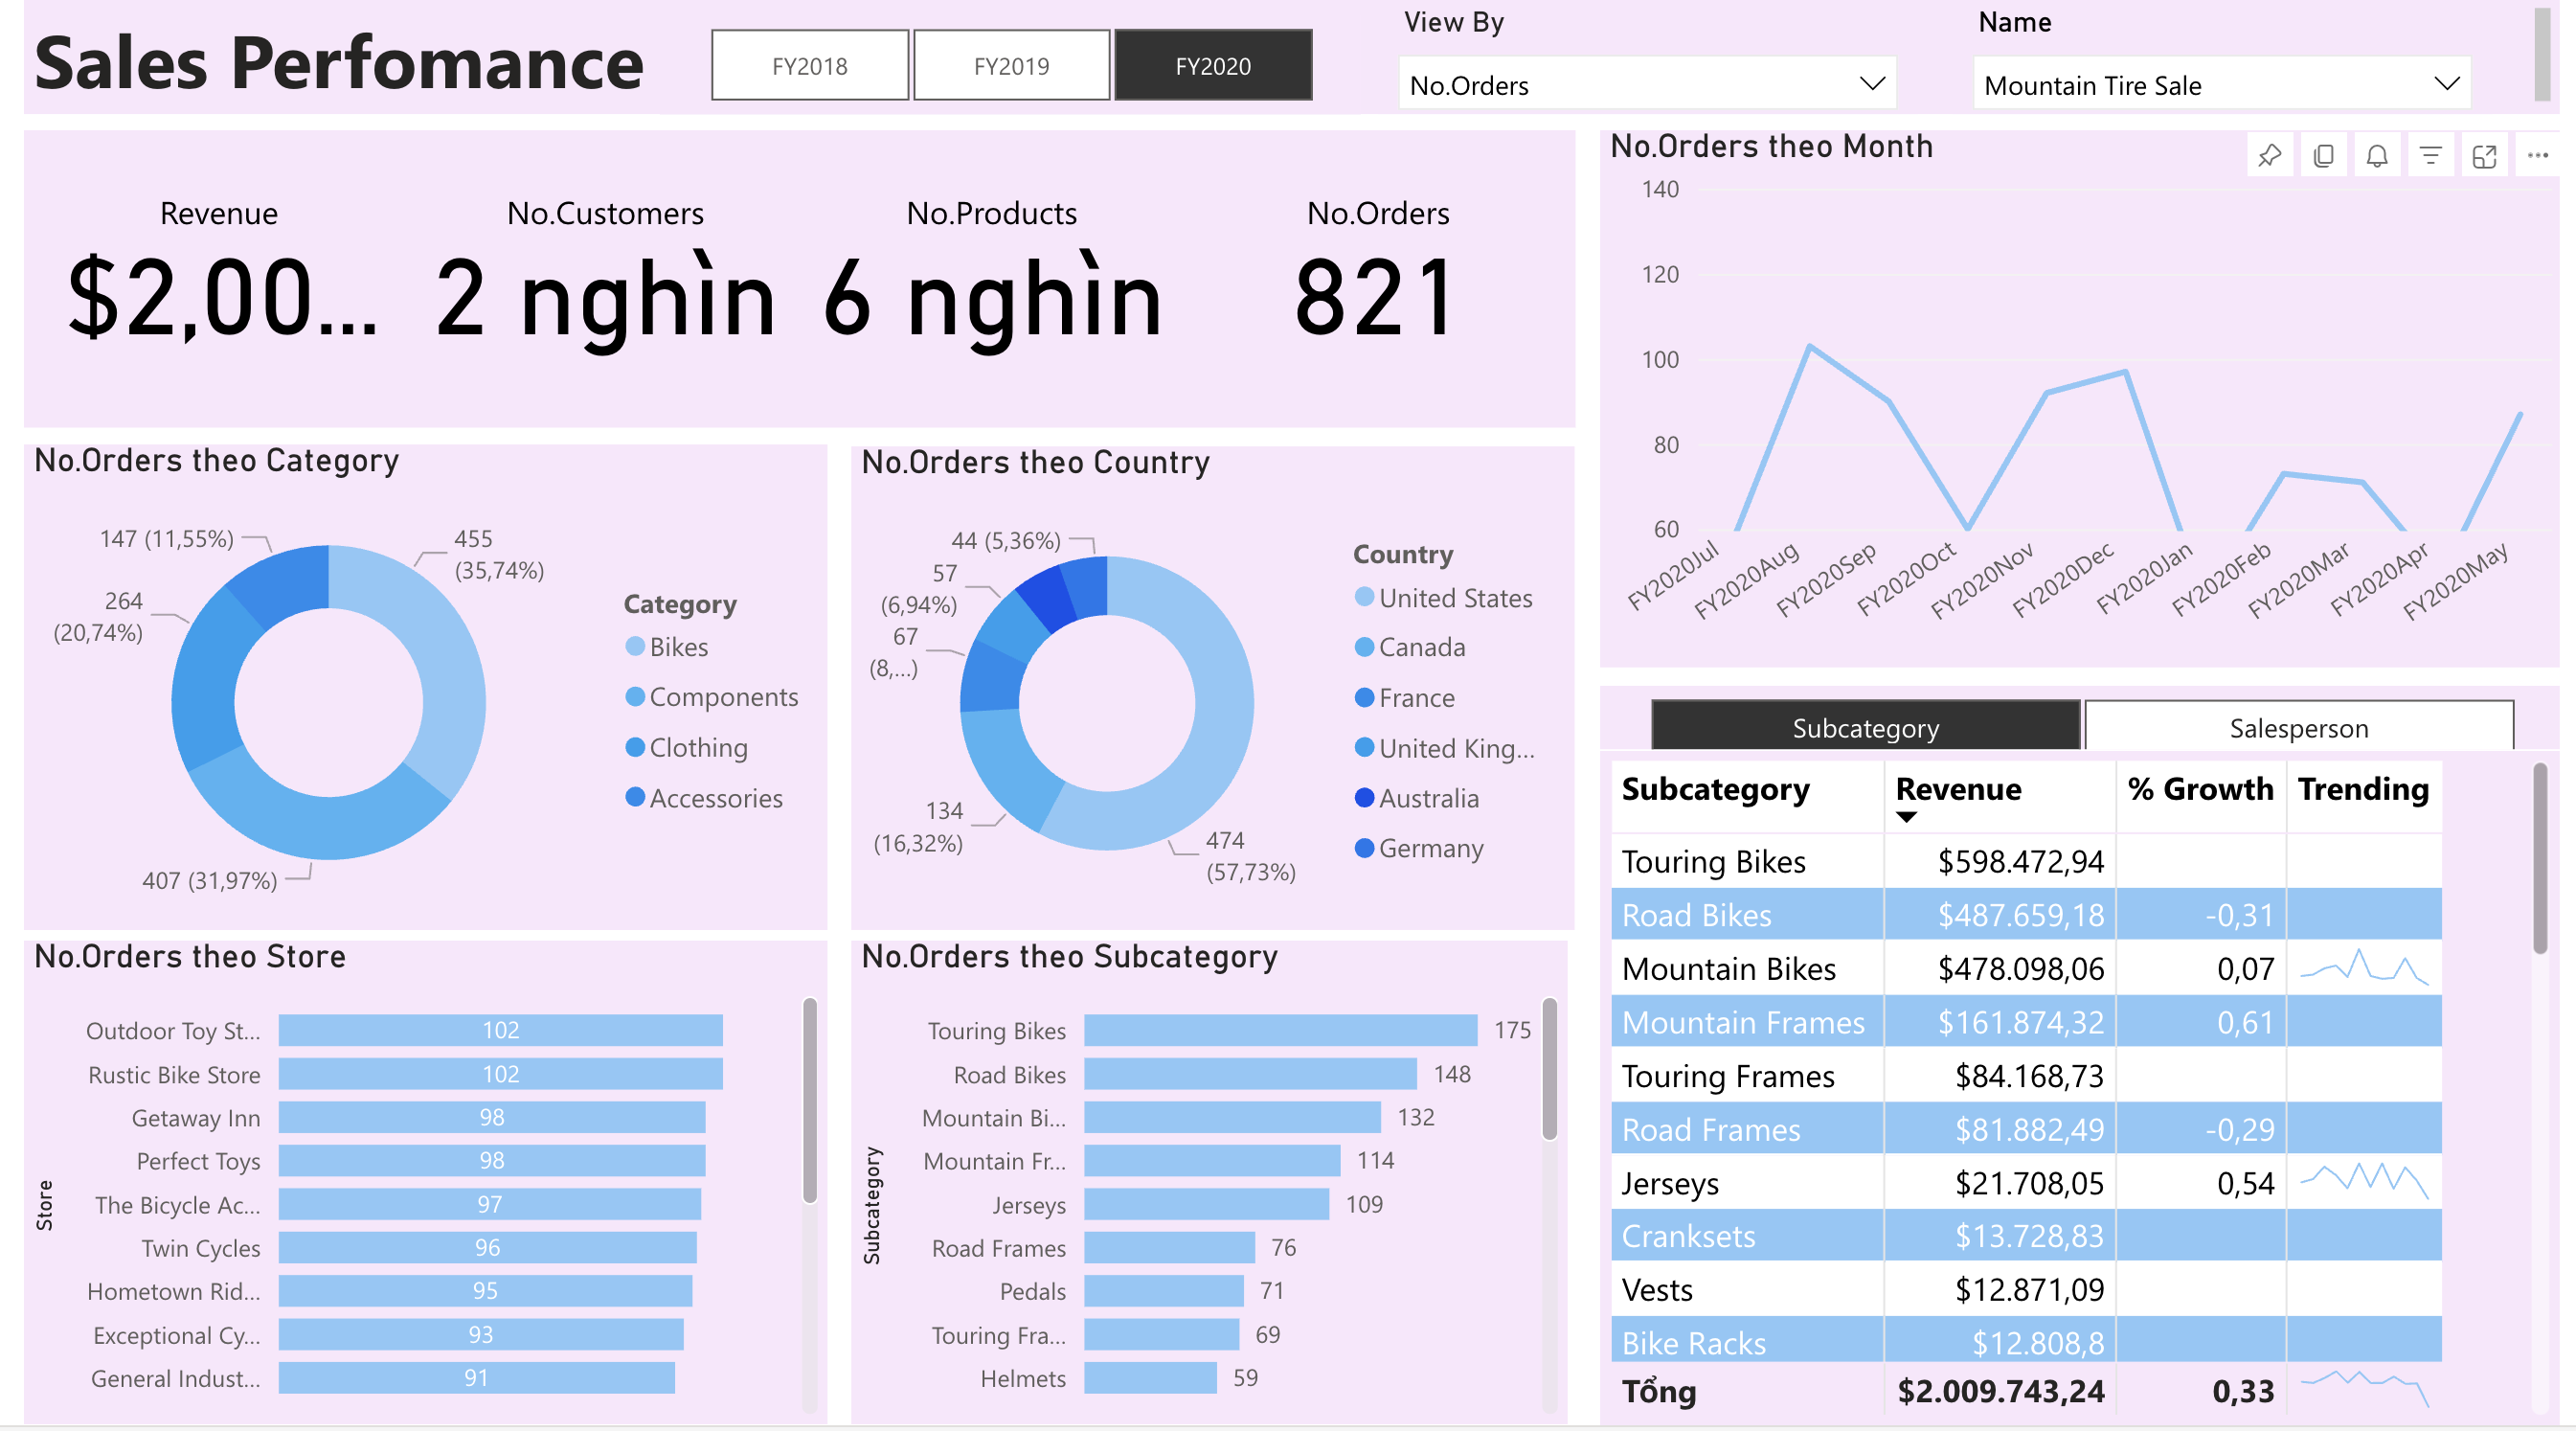

This screenshot's page, from the dashboard's own definition file:
{"tool":"powerbi","page":{"name":"page 1","canvas":[1280,720],"ordinal":0},"visuals":[{"type":"textbox","box":[0,0,1280,58.3],"z":0},{"type":"cardVisual","fields":{"Data":["Facts.Revenue","Facts.No.Customers","Facts.No.Products","Facts.No.Orders"]},"box":[0,66.6,782.8,149.9],"z":1},{"type":"slicer","fields":{"Values":["Date.Fiscal.Year"]},"box":[321.2,8.3,353.3,50],"z":2},{"type":"slicer","fields":{"Values":["View By.View By"]},"box":[682.8,0,272.4,58.3],"z":3},{"type":"donutChart","fields":{"Category":["Region.Country"],"Y":["Facts.No.Customers"]},"box":[417.6,226,365.2,243.9],"z":4},{"type":"donutChart","fields":{"Category":["Product.Category"],"Y":["Facts.No.Customers"]},"box":[0,224.8,405.6,245.1],"z":5},{"type":"barChart","fields":{"Category":["Stores.Store"],"Y":["Facts.No.Customers"]},"box":[0,475.8,405.6,243.9],"z":6},{"type":"barChart","fields":{"Category":["Product.Subcategory"],"Y":["Facts.No.Customers"]},"box":[417.6,475.8,361.6,243.9],"z":7},{"type":"lineChart","fields":{"Category":["Date.Fiscal.Month"],"Y":["Facts.No.Customers"]},"box":[795.8,66.6,485.4,271.2],"z":8},{"type":"tableEx","fields":{"Values":["Product.Subcategory","Facts.Revenue","View By.% Growth","SparklineData(View By.% Growth_[Date.Fiscal.Month])"]},"box":[795.8,379.5,484.2,340.2],"z":9},{"type":"slicer","fields":{"Values":["Promotion.Name"]},"box":[973.1,0,272.4,58.3],"z":10},{"type":"slicer","fields":{"Values":["Parameter 2.Parameter"]},"box":[795.8,347.4,485.4,32.1],"z":11}]}

Visuals, with their boxes in screenshot pixels (x1, y1, x2, y2), scaled from the page's 1280x720 canvas onto the 2576x1431 screenshot:
textbox: [0, 0, 2575, 116]
cardVisual - Facts.Revenue x Facts.No.Customers: [0, 132, 1575, 430]
slicer - Date.Fiscal.Year: [646, 16, 1358, 116]
slicer - View By.View By: [1374, 0, 1922, 116]
donutChart - Region.Country x Facts.No.Customers: [841, 449, 1575, 934]
donutChart - Product.Category x Facts.No.Customers: [0, 446, 816, 934]
barChart - Stores.Store x Facts.No.Customers: [0, 945, 816, 1430]
barChart - Product.Subcategory x Facts.No.Customers: [841, 945, 1569, 1430]
lineChart - Date.Fiscal.Month x Facts.No.Customers: [1601, 132, 2575, 671]
tableEx - Product.Subcategory x Facts.Revenue: [1601, 754, 2575, 1430]
slicer - Promotion.Name: [1958, 0, 2506, 116]
slicer - Parameter 2.Parameter: [1601, 691, 2575, 754]
